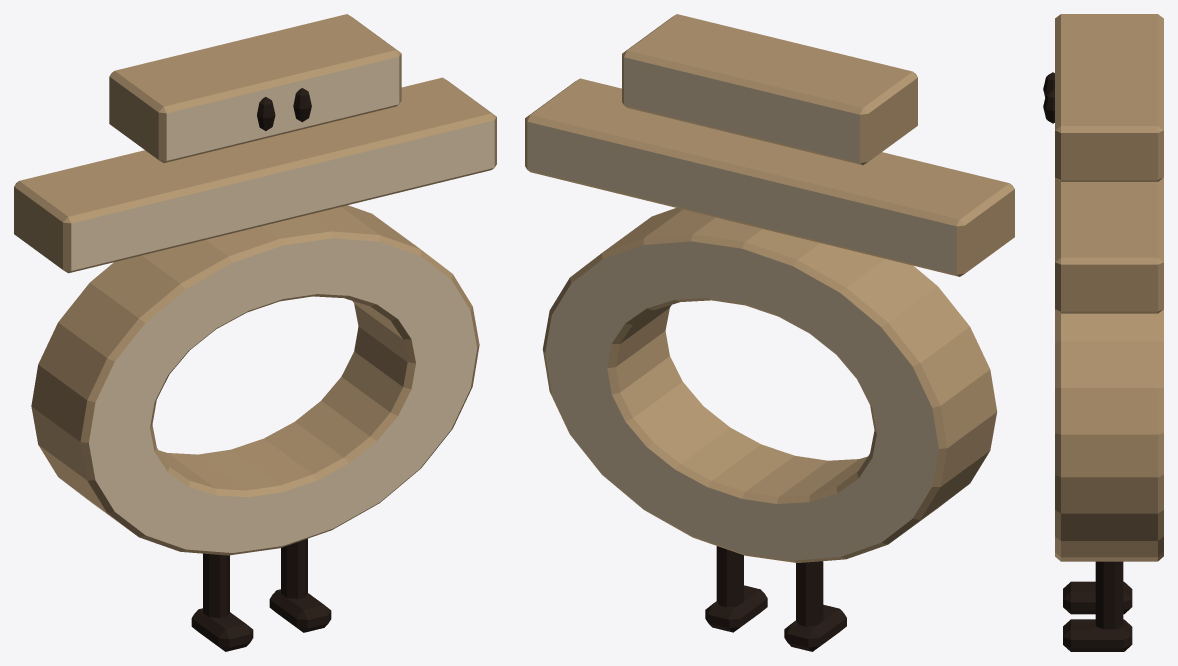
The model's file is hieut.glb.
3 renders of one model, left to right at view 1: azimuth 30°, elevation 25°; view 2: azimuth 150°, elevation 25°; view 3: azimuth 270°, elevation 25°, orthographic. The views are drawn at different scales.
Visible parts, largest first — view 1: Glyph, Leg_L, Leg_R; view 2: Glyph, Leg_L, Leg_R; view 3: Glyph, Leg_R, Leg_L, Eye_R, Eye_L.
Part boxes in pixels (bbox=[...]): Glyph: bbox=[14, 14, 496, 555]; Leg_L: bbox=[191, 553, 253, 651]; Leg_R: bbox=[269, 538, 331, 632]; Glyph: bbox=[525, 14, 1014, 562]; Leg_L: bbox=[784, 561, 846, 651]; Leg_R: bbox=[705, 546, 767, 632]; Glyph: bbox=[1055, 14, 1163, 561]; Leg_R: bbox=[1063, 561, 1132, 651]; Leg_L: bbox=[1063, 581, 1132, 614]; Eye_R: bbox=[1043, 90, 1054, 123]; Eye_L: bbox=[1043, 72, 1054, 97].
Bounding box in the file's own units: 0.5 × 0.6225 × 0.122.
